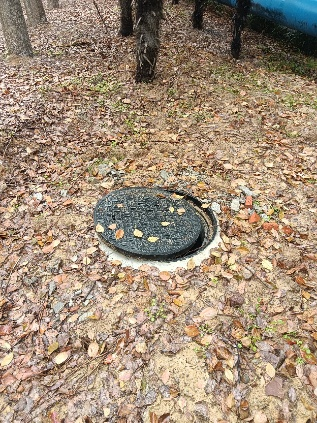uncovered: (92, 188, 217, 266)
